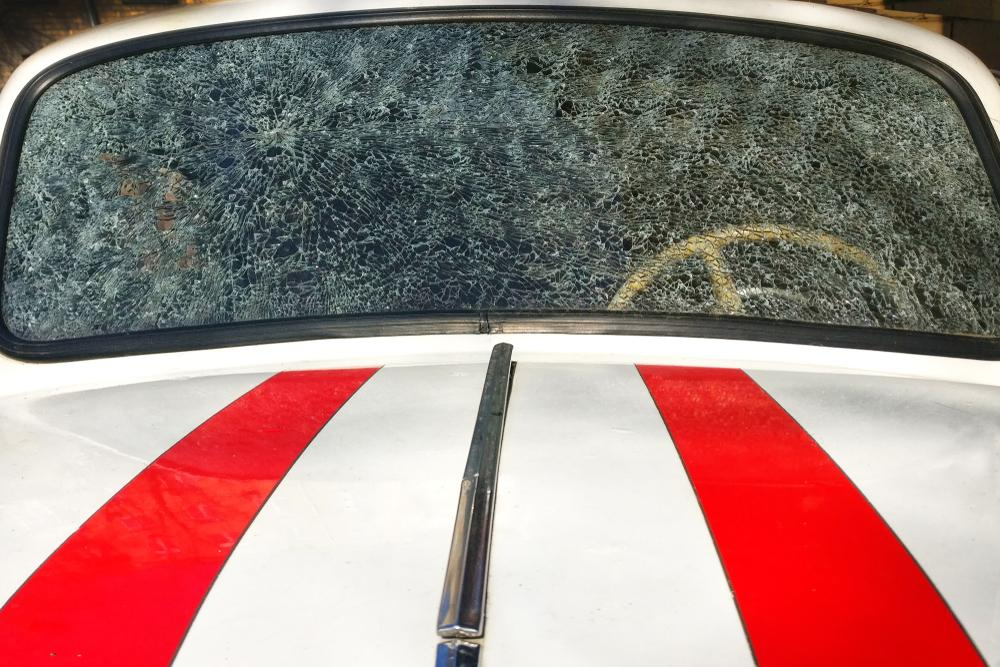glass shatter: (0, 19, 1000, 343)
